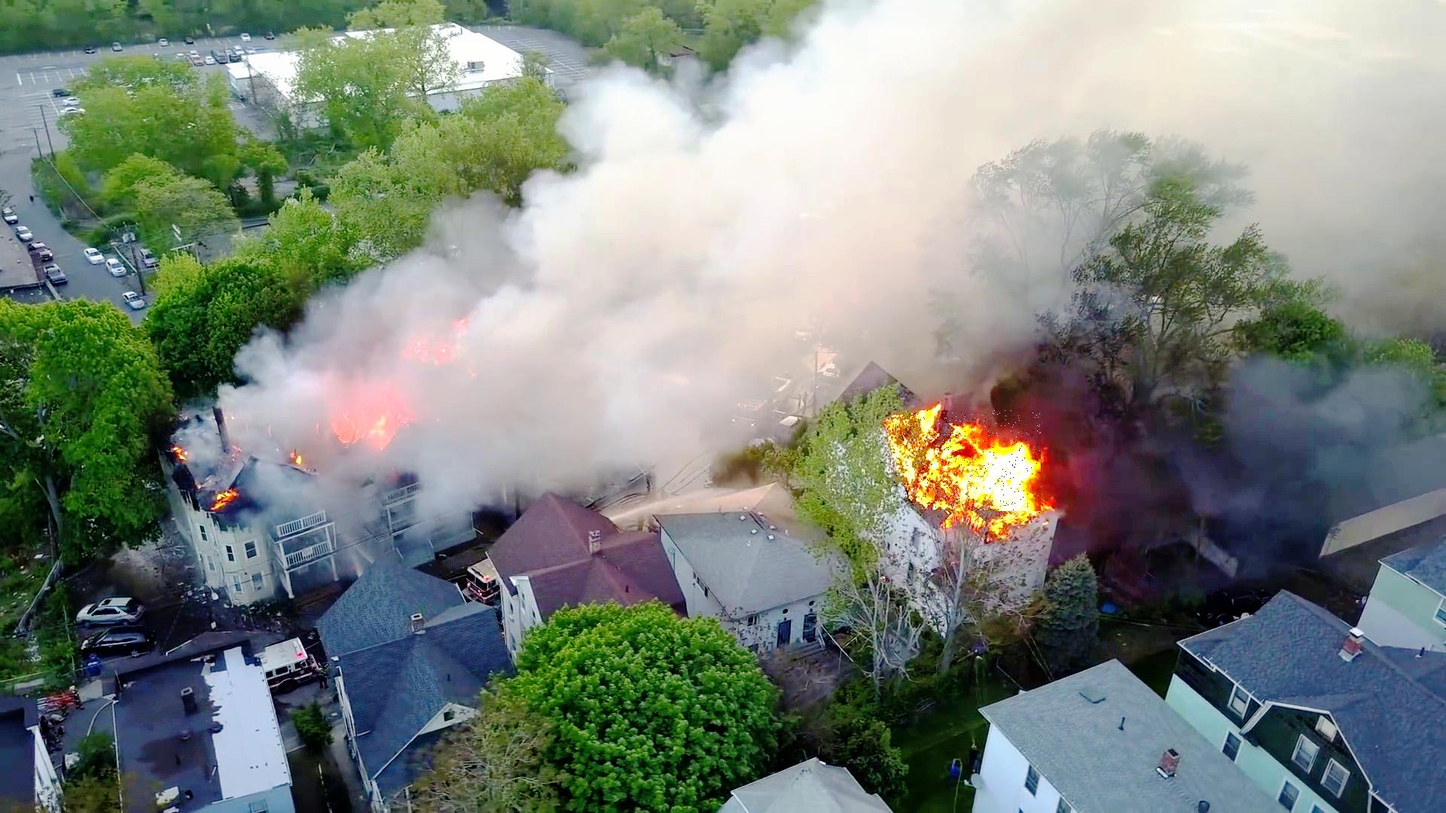fire: (892, 411, 1043, 513)
